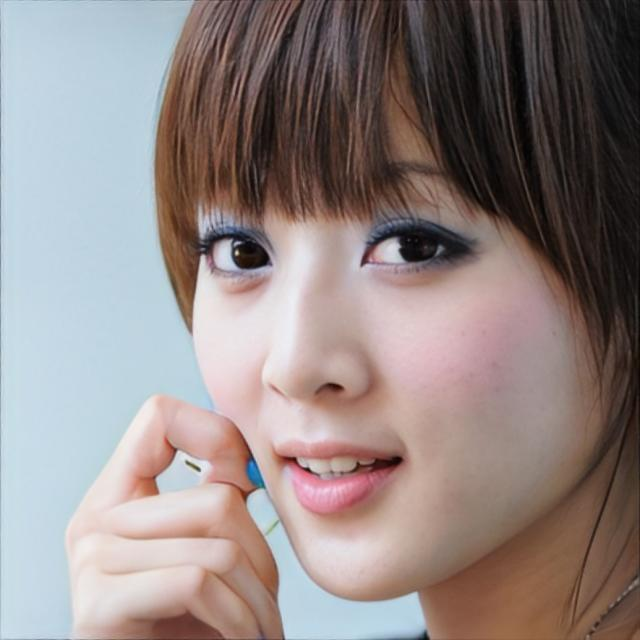surprise: (191, 0, 638, 600)
